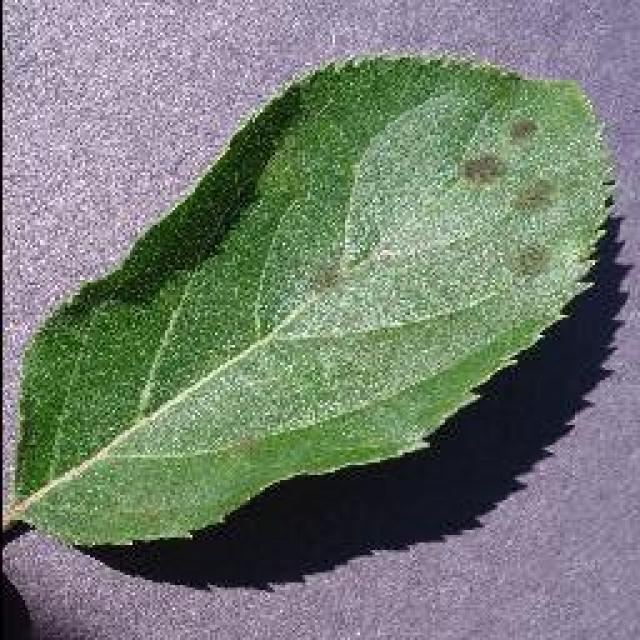apple scab disease: (5, 48, 617, 550)
